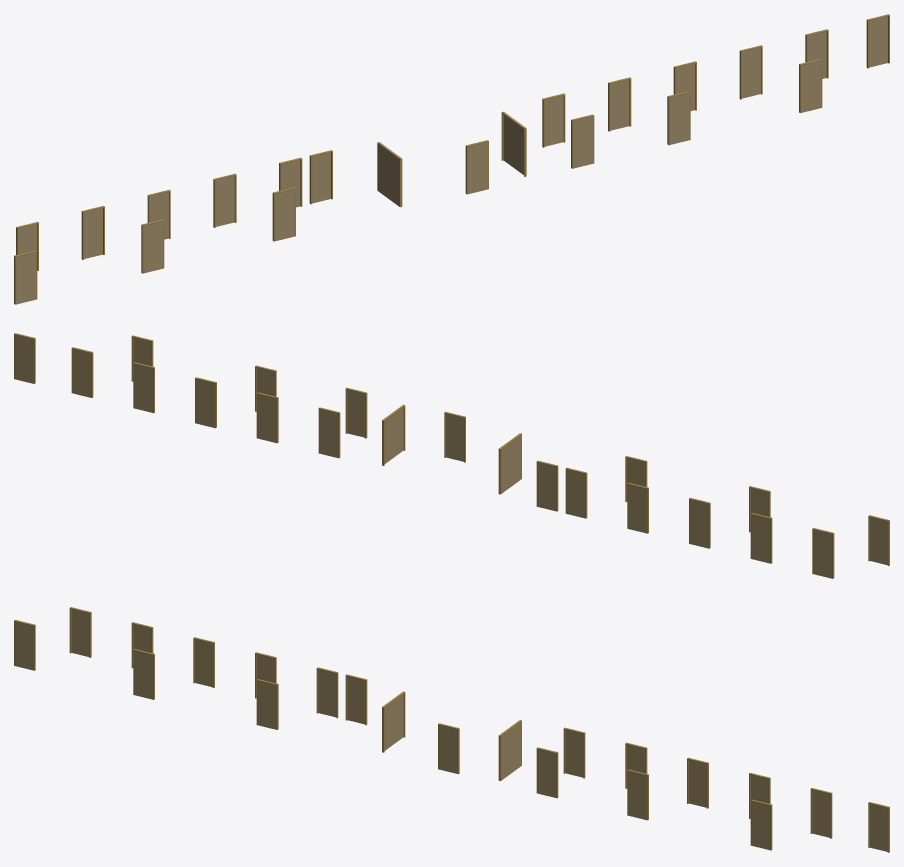
The model's file is 231110AC11-Institute-Var-2-IFC_2_Obergeschoss_IfcDoor.dae.
The picture shows the model from 3 angles, top to bottom: view 1: azimuth 30°, elevation 25°; view 2: azimuth 150°, elevation 25°; view 3: azimuth 330°, elevation 25°; orthographic projection. The views are drawn at different scales.
Visible parts, largest first — view 1: 3XIgDIN6vBjxvjdvI7ngjF, 2N6esOMjP29AvhRLQ1Jz3$, 2h5A513TXAAhxsa3$Armxt, 2rfNFYnCT2WAXMkqZ5PiDc, 0HthpQNkzAiuSXm9HWsQaw, 1EjnchXi9Esx$bY6vHG2RD, 2$R4rUG1nFkBAylN9aGNhb, 1uDQb3wH95JQTlYH_Y617r, 0o6iTaAHzAQ9cd4xHGAaOG, 2wCVZFSRnBZ8YJ5Ri$bwG7, 0WVkDf7jjAGhdceJ18iI2g, 2GIKSl4yvD7wO8pi7zg$sQ (+9 smaller); view 2: 3XIgDIN6vBjxvjdvI7ngjF, 2N6esOMjP29AvhRLQ1Jz3$, 0CFMpIkEzADxWz$xDSGgek, 2wCVZFSRnBZ8YJ5Ri$bwG7, 2VJpmvlMLEvOKD0Mb9hAiw, 3UcRuggsrAXPWkQpXc3dLn, 2GIKSl4yvD7wO8pi7zg$sQ, 3mQi89EHb4rOWufyKZfZhB, 3KiAVCT1D1t8Xn0nRB8nld, 0HthpQNkzAiuSXm9HWsQaw, 1ufhCZbhH2Ifud2RWdYCPS, 24UZuOfCf3JhP_9U8SWMuK (+9 smaller); view 3: 2N6esOMjP29AvhRLQ1Jz3$, 3XIgDIN6vBjxvjdvI7ngjF, 2$R4rUG1nFkBAylN9aGNhb, 1uDQb3wH95JQTlYH_Y617r, 0HthpQNkzAiuSXm9HWsQaw, 3UcRuggsrAXPWkQpXc3dLn, 2wCVZFSRnBZ8YJ5Ri$bwG7, 2GIKSl4yvD7wO8pi7zg$sQ, 2VJpmvlMLEvOKD0Mb9hAiw, 3mQi89EHb4rOWufyKZfZhB, 0o6iTaAHzAQ9cd4xHGAaOG, 2h5A513TXAAhxsa3$Armxt (+9 smaller).
Boxes of the visible parts, x1=… form: 3XIgDIN6vBjxvjdvI7ngjF: x1=377, y1=142, x2=402, y2=207; 2N6esOMjP29AvhRLQ1Jz3$: x1=501, y1=111, x2=526, y2=176; 2h5A513TXAAhxsa3$Armxt: x1=667, y1=91, x2=690, y2=145; 2rfNFYnCT2WAXMkqZ5PiDc: x1=465, y1=140, x2=488, y2=194; 0HthpQNkzAiuSXm9HWsQaw: x1=571, y1=114, x2=594, y2=168; 1EjnchXi9Esx$bY6vHG2RD: x1=14, y1=250, x2=37, y2=304; 2$R4rUG1nFkBAylN9aGNhb: x1=799, y1=59, x2=822, y2=112; 1uDQb3wH95JQTlYH_Y617r: x1=272, y1=187, x2=295, y2=241; 0o6iTaAHzAQ9cd4xHGAaOG: x1=141, y1=219, x2=164, y2=273; 2wCVZFSRnBZ8YJ5Ri$bwG7: x1=542, y1=93, x2=565, y2=147; 0WVkDf7jjAGhdceJ18iI2g: x1=213, y1=173, x2=236, y2=227; 2GIKSl4yvD7wO8pi7zg$sQ: x1=309, y1=150, x2=332, y2=204; 3XIgDIN6vBjxvjdvI7ngjF: x1=498, y1=433, x2=521, y2=494; 2N6esOMjP29AvhRLQ1Jz3$: x1=382, y1=404, x2=405, y2=465; 0CFMpIkEzADxWz$xDSGgek: x1=256, y1=392, x2=278, y2=443; 2wCVZFSRnBZ8YJ5Ri$bwG7: x1=318, y1=407, x2=340, y2=458; 2VJpmvlMLEvOKD0Mb9hAiw: x1=812, y1=528, x2=834, y2=578; 3UcRuggsrAXPWkQpXc3dLn: x1=565, y1=467, x2=587, y2=518; 2GIKSl4yvD7wO8pi7zg$sQ: x1=536, y1=460, x2=558, y2=511; 3mQi89EHb4rOWufyKZfZhB: x1=71, y1=347, x2=93, y2=397; 3KiAVCT1D1t8Xn0nRB8nld: x1=750, y1=513, x2=772, y2=563; 0HthpQNkzAiuSXm9HWsQaw: x1=345, y1=387, x2=367, y2=438; 1ufhCZbhH2Ifud2RWdYCPS: x1=14, y1=333, x2=35, y2=383; 24UZuOfCf3JhP_9U8SWMuK: x1=133, y1=362, x2=154, y2=412; 2N6esOMjP29AvhRLQ1Jz3$: x1=498, y1=720, x2=521, y2=781; 3XIgDIN6vBjxvjdvI7ngjF: x1=382, y1=691, x2=405, y2=752; 2$R4rUG1nFkBAylN9aGNhb: x1=750, y1=799, x2=772, y2=850; 1uDQb3wH95JQTlYH_Y617r: x1=256, y1=679, x2=278, y2=729; 0HthpQNkzAiuSXm9HWsQaw: x1=536, y1=747, x2=558, y2=798; 3UcRuggsrAXPWkQpXc3dLn: x1=316, y1=667, x2=338, y2=718; 2wCVZFSRnBZ8YJ5Ri$bwG7: x1=563, y1=727, x2=585, y2=778; 2GIKSl4yvD7wO8pi7zg$sQ: x1=345, y1=674, x2=367, y2=725; 2VJpmvlMLEvOKD0Mb9hAiw: x1=69, y1=607, x2=91, y2=657; 3mQi89EHb4rOWufyKZfZhB: x1=810, y1=788, x2=832, y2=838; 0o6iTaAHzAQ9cd4xHGAaOG: x1=133, y1=649, x2=154, y2=699; 2h5A513TXAAhxsa3$Armxt: x1=627, y1=769, x2=648, y2=820.
Size of the model in its own units: 41.2 by 2.37 by 2.1.
